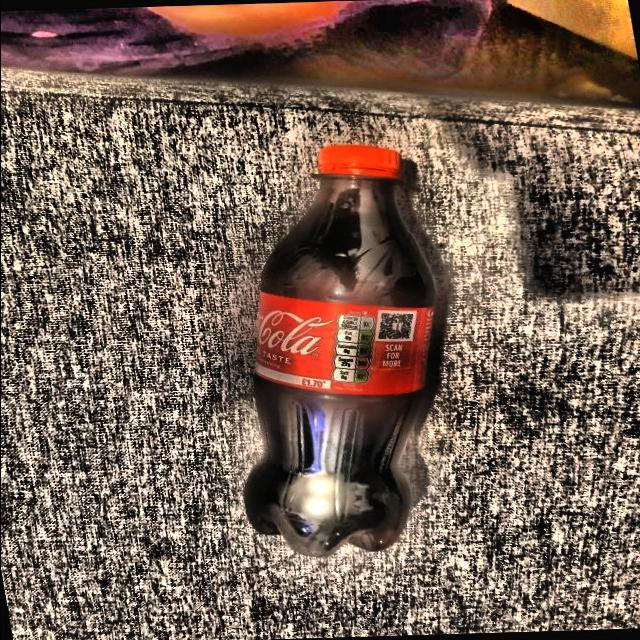coke-bottle: (233, 134, 430, 550)
